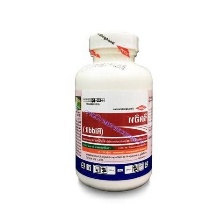insecticide: (73, 29, 157, 193)
